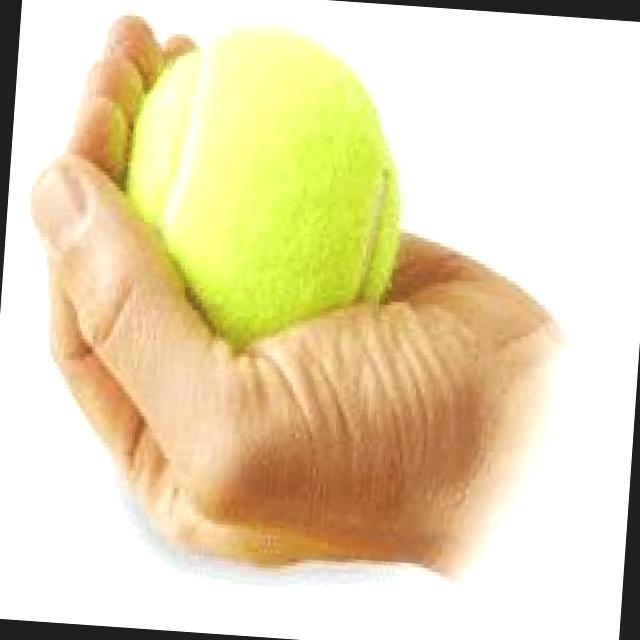Tennis Ball: (120, 23, 403, 352)
